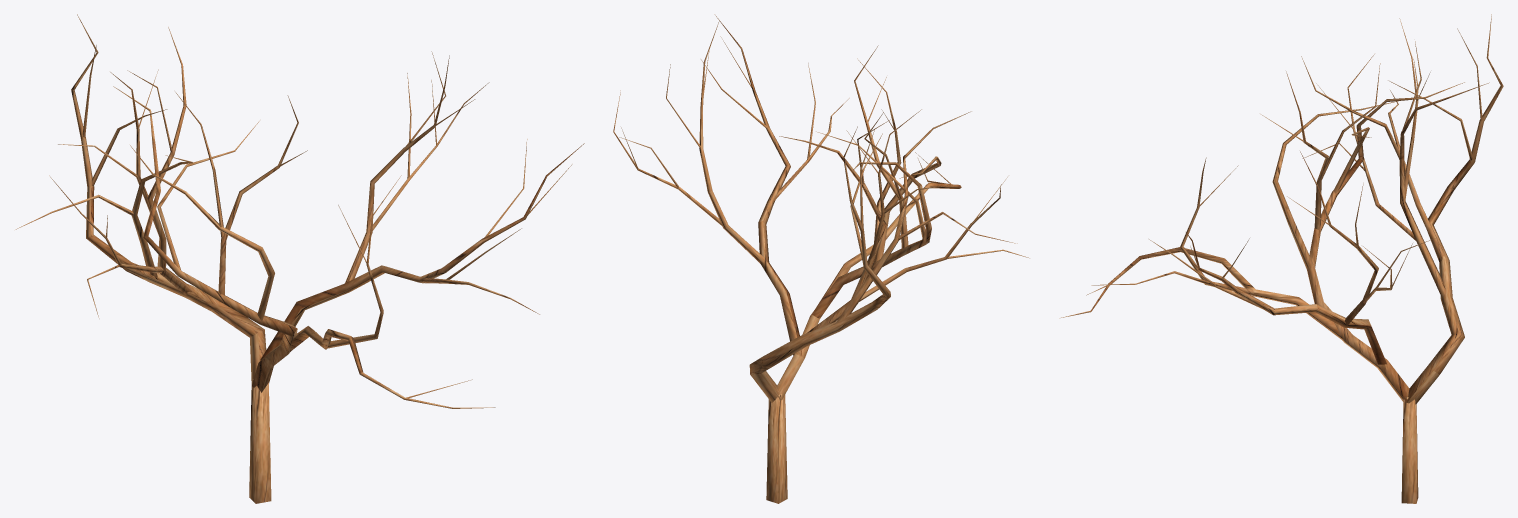
The model's file is Tree.fbx.
3 renders of one model, left to right at view 1: azimuth 30°, elevation 25°; view 2: azimuth 150°, elevation 25°; view 3: azimuth 270°, elevation 25°, orthographic. The views are drawn at different scales.
Visible parts, largest first — view 1: Tree; view 2: Tree; view 3: Tree.
Boxes of the visible parts, left/top/right/bottom form: Tree: left=15, top=14, right=584, bottom=503; Tree: left=613, top=14, right=1029, bottom=503; Tree: left=1059, top=14, right=1503, bottom=503.
Size of the model in its own units: 728 by 734 by 691.
